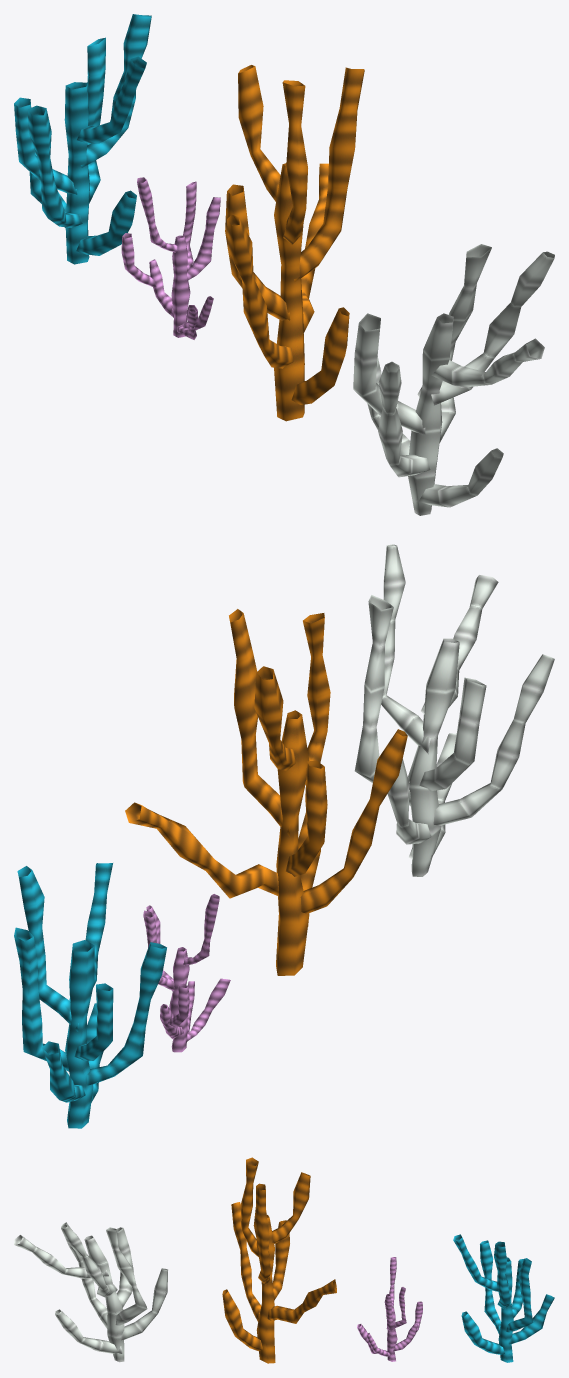
File: SG_envProp_Coral4v3.FBX
3 renders of one model, top to bottom at view 1: azimuth 30°, elevation 25°; view 2: azimuth 150°, elevation 25°; view 3: azimuth 270°, elevation 25°, orthographic. The views are drawn at different scales.
Parts seen in each view (by area): view 1: SG_envProp_Coral4v3, SG_envProp_Coral4v4, SG_envProp_Coral4v1, SG_envProp_Coral4v2; view 2: SG_envProp_Coral4v3, SG_envProp_Coral4v4, SG_envProp_Coral4v1, SG_envProp_Coral4v2; view 3: SG_envProp_Coral4v3, SG_envProp_Coral4v4, SG_envProp_Coral4v1, SG_envProp_Coral4v2.
Boxes of the visible parts, <box> form: SG_envProp_Coral4v3: <box>225,65,364,421</box>; SG_envProp_Coral4v4: <box>353,244,554,515</box>; SG_envProp_Coral4v1: <box>14,14,151,264</box>; SG_envProp_Coral4v2: <box>121,177,220,339</box>; SG_envProp_Coral4v3: <box>125,609,407,975</box>; SG_envProp_Coral4v4: <box>354,544,554,876</box>; SG_envProp_Coral4v1: <box>14,863,166,1128</box>; SG_envProp_Coral4v2: <box>143,894,230,1052</box>; SG_envProp_Coral4v3: <box>222,1157,336,1363</box>; SG_envProp_Coral4v4: <box>14,1222,167,1362</box>; SG_envProp_Coral4v1: <box>453,1234,554,1362</box>; SG_envProp_Coral4v2: <box>357,1257,422,1361</box>.
Size of the model in its own units: 93.59 by 161 by 399.
